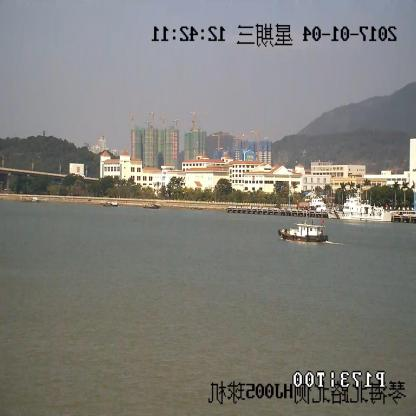Fishing Boat: (278, 219, 328, 244)
